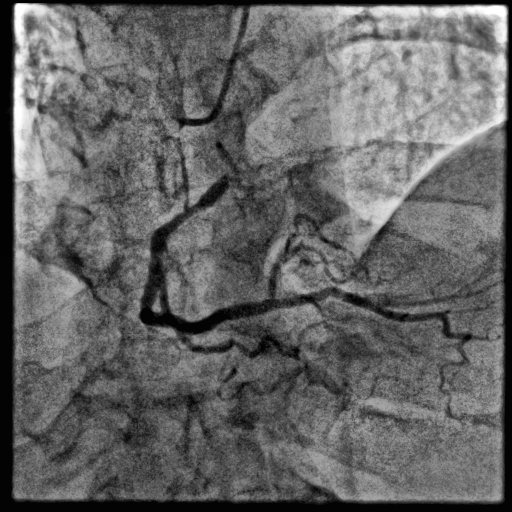pborca: (268, 214, 347, 299)
pda: (270, 286, 472, 420)
rca: (139, 174, 275, 333)
